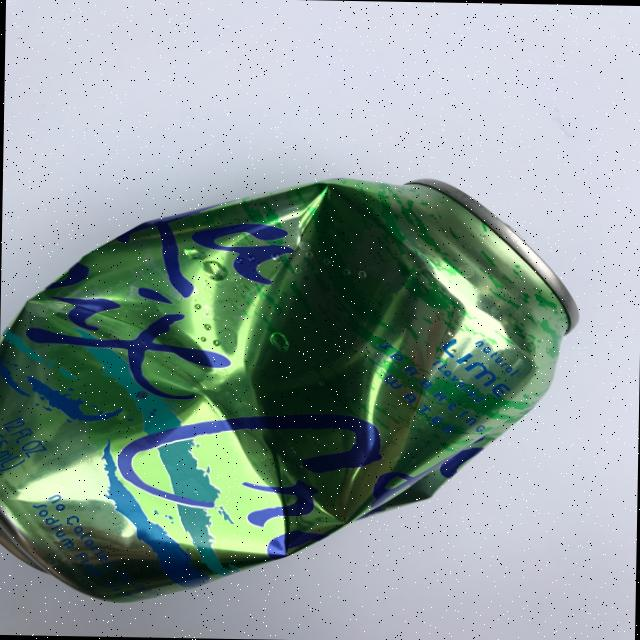metal: (0, 169, 582, 611)
